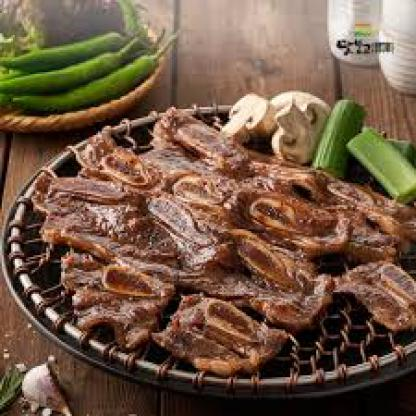Korean rib: (41, 130, 414, 361)
